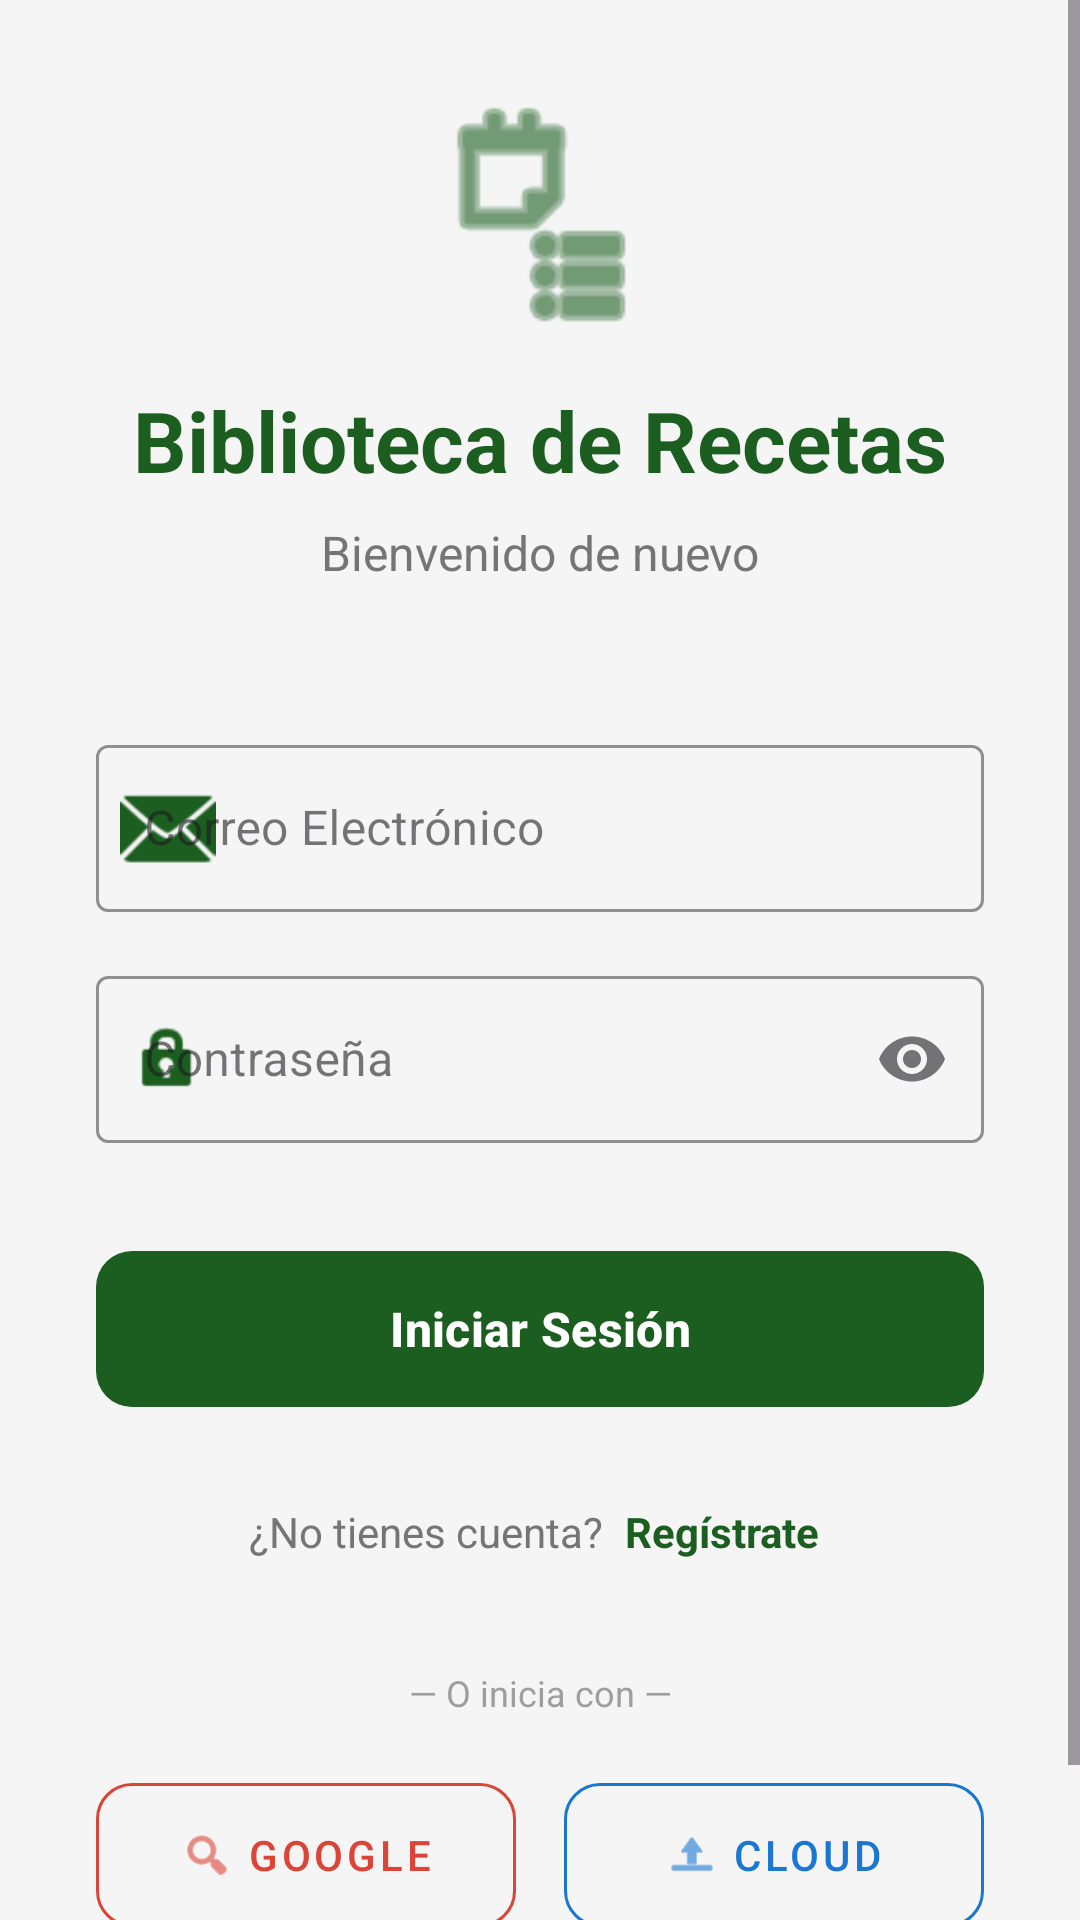

Icons on this 1080 × 1920 Android screen, each with the point to tap as point (x, y):
agenda: point (541, 215)
